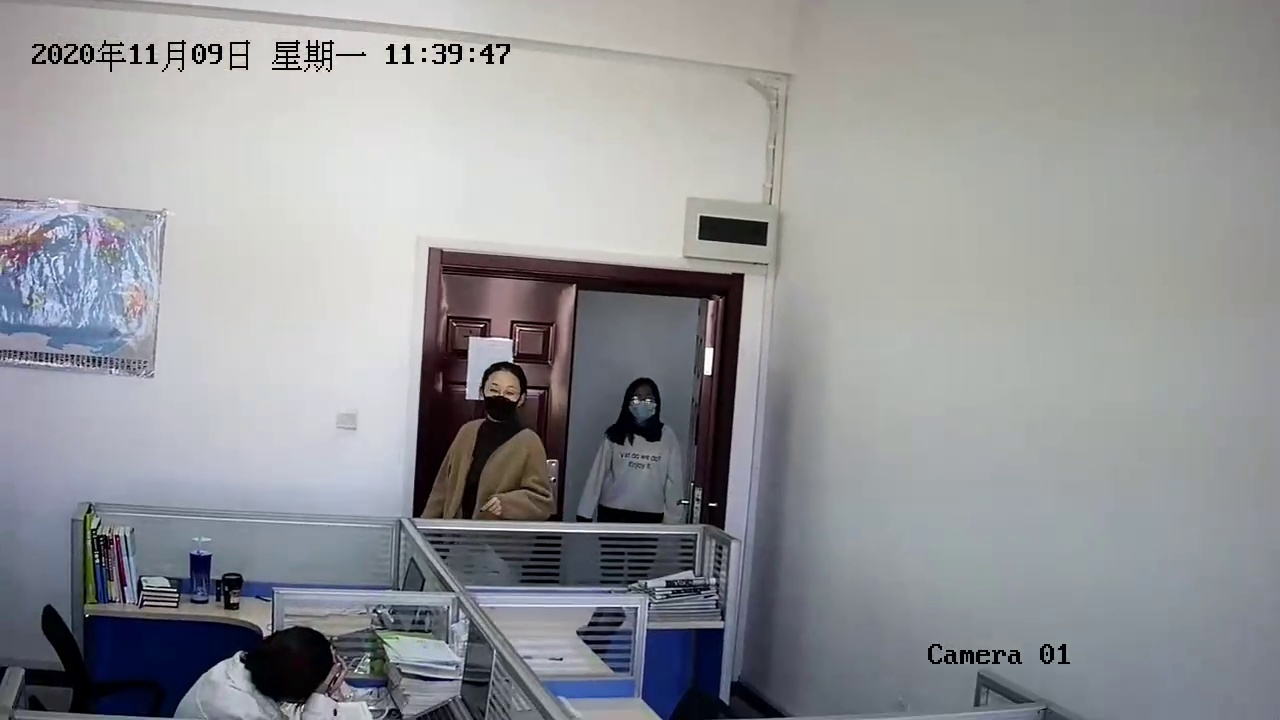mask: (480, 360, 530, 425), (623, 366, 662, 428)
